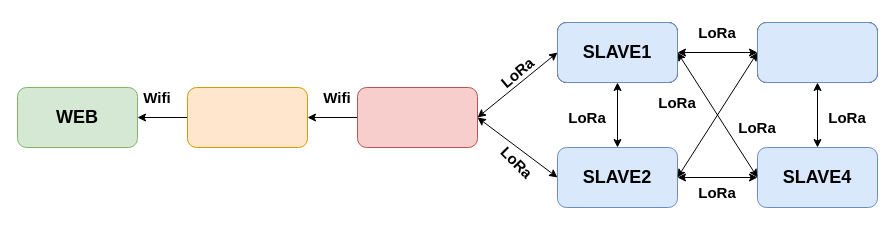
Some shapes in this 895 by 225 pixel diagram are drawn without their labels. Here are the shapes that lost their labels. From the top down, the centre of each, then its label:
the point at 817,52: SLAVE3
the point at 247,117: DATABASE
the point at 417,117: MASTER
